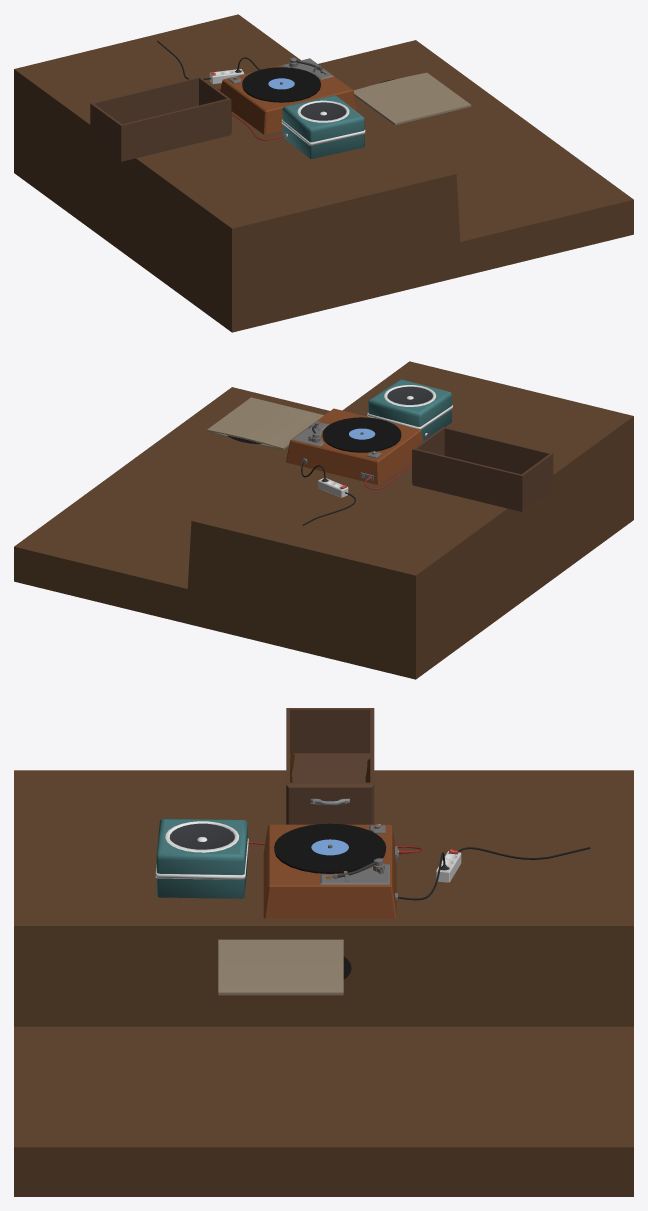
The model's file is musikplayer.fbx.
3 renders of one model, top to bottom at view 1: azimuth 30°, elevation 25°; view 2: azimuth 150°, elevation 25°; view 3: azimuth 270°, elevation 25°, orthographic. The views are drawn at different scales.
Visible parts, largest first — view 1: Table, Drawer, Speaker, RecordPackage, PlayerBody, RecordOnPlayer; view 2: Table, Drawer, PlayerBody, RecordPackage, Speaker, RecordOnPlayer; view 3: Table, Drawer, PlayerBody, Speaker, RecordPackage, RecordOnPlayer.
Boxes of the visible parts, x1,y1,x2,y2 form: Table: (14,14,633,332); Drawer: (90,76,231,161); Speaker: (281,95,365,158); RecordPackage: (353,72,471,125); PlayerBody: (220,58,357,134); RecordOnPlayer: (242,67,320,100); Table: (14,361,633,679); Drawer: (412,427,553,511); PlayerBody: (286,408,423,484); RecordPackage: (207,397,323,449); Speaker: (367,379,452,441); RecordOnPlayer: (322,417,401,450); Table: (14,770,633,1196); Drawer: (286,708,374,824); PlayerBody: (263,824,398,918); Speaker: (155,818,248,898); RecordPackage: (218,939,343,995); RecordOnPlayer: (274,823,386,870).
Size of the model in its own units: 1220 by 392 by 1105.
